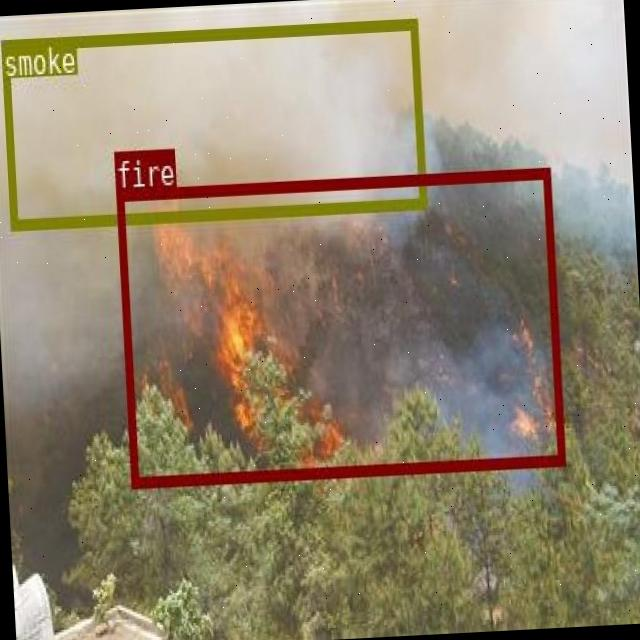fire: (115, 166, 565, 487)
smoke: (0, 18, 426, 230)
